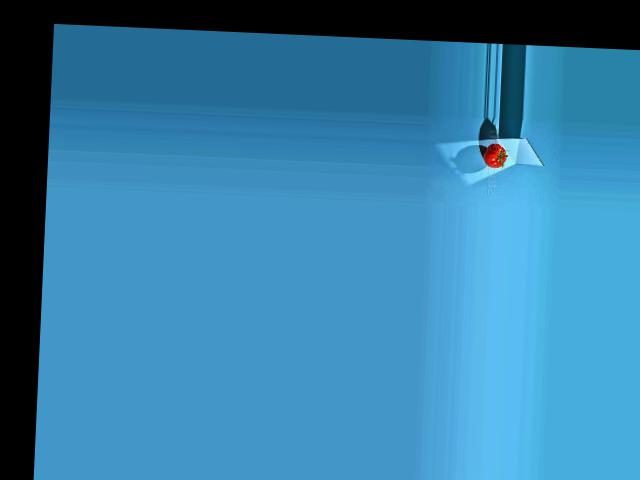tomato: (483, 142, 507, 168)
